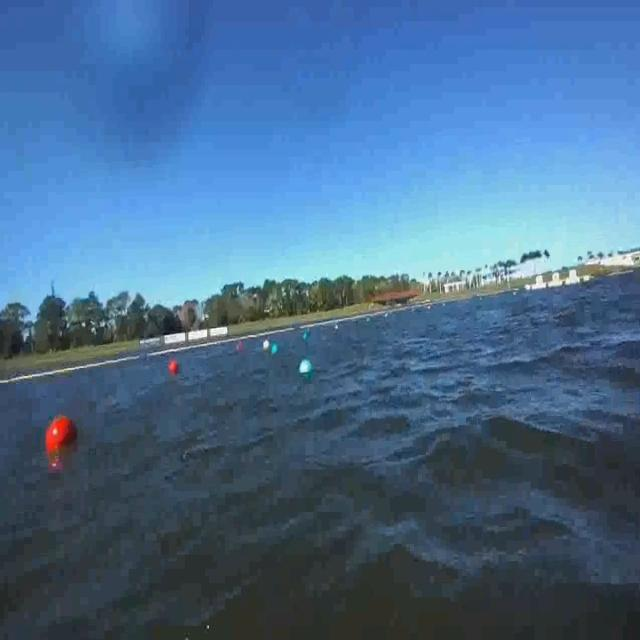green-buoy: (299, 358, 314, 377), (272, 344, 279, 356)
red-buoy: (48, 416, 80, 454), (170, 359, 179, 374)
